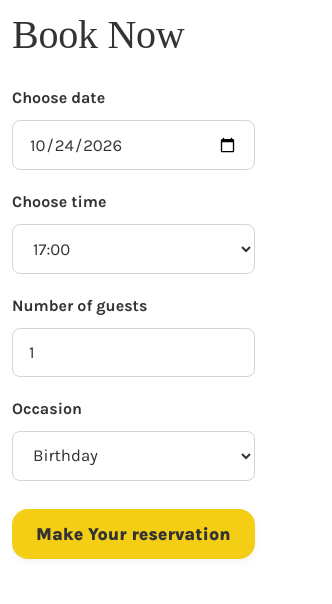
Test case: BookingForm - UI Validation Integration › Displays inline error alert when blurring an invalid guests field
The width and height of the screenshot is (332, 604).
In the number field labelled "Number of guests": (133, 352) [12,328,254,377], type "15"
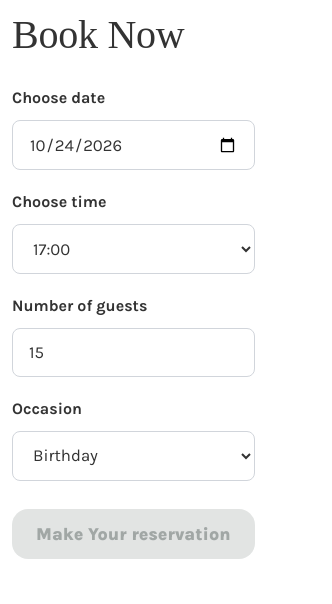
Leave the number field labelled "Number of guests", box [12,328,254,377]
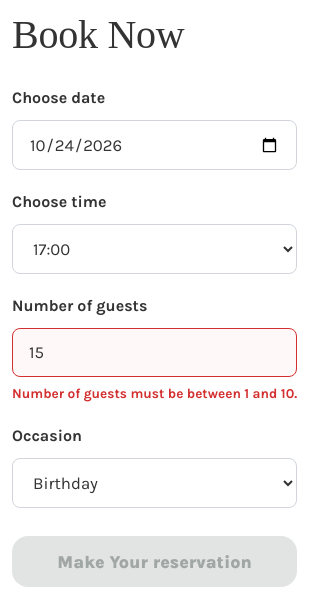
Expected: the text "Number of guests must be between 1 and 10." is shown, [12,385,297,402]
